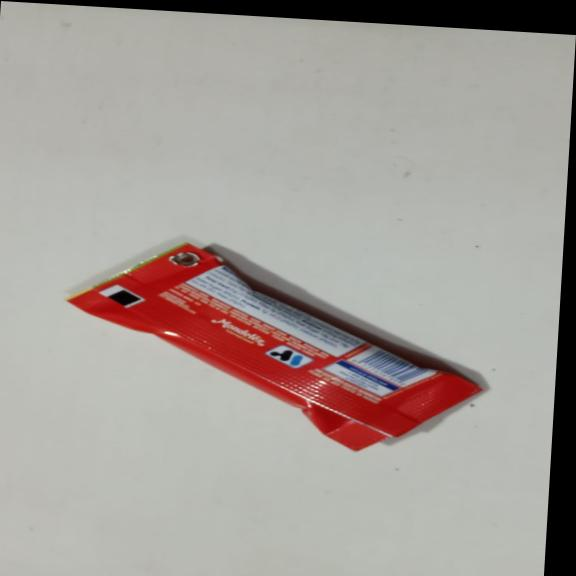Plastik: (56, 234, 492, 457)
